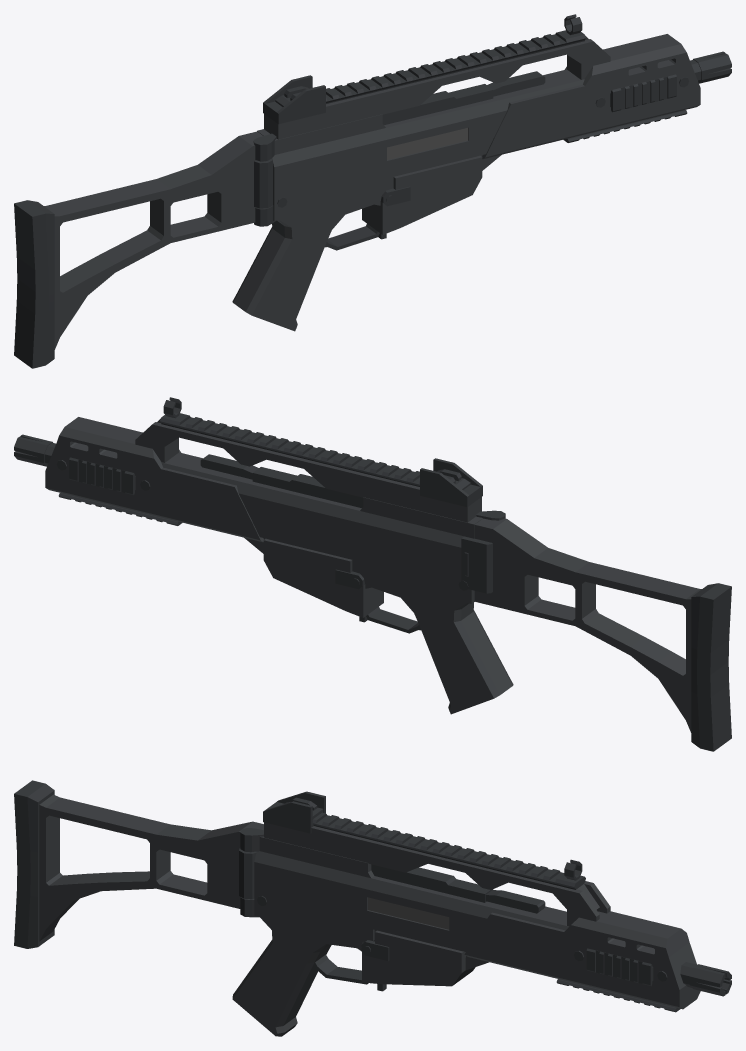
File: AssaultRifle3_04.fbx
3 views of the same model, one above another, from view 1: azimuth 30°, elevation 25°; view 2: azimuth 150°, elevation 25°; view 3: azimuth 330°, elevation 25° (orthographic).
Visible parts, largest first — view 1: AssaultRifle3_04; view 2: AssaultRifle3_04; view 3: AssaultRifle3_04.
Part boxes in pixels (x1,y1,x2,y2): AssaultRifle3_04: (14, 14, 731, 368); AssaultRifle3_04: (14, 397, 731, 751); AssaultRifle3_04: (14, 780, 731, 1036).
Bounding box in the file's own units: 0.8153 × 0.2655 × 0.0529.
